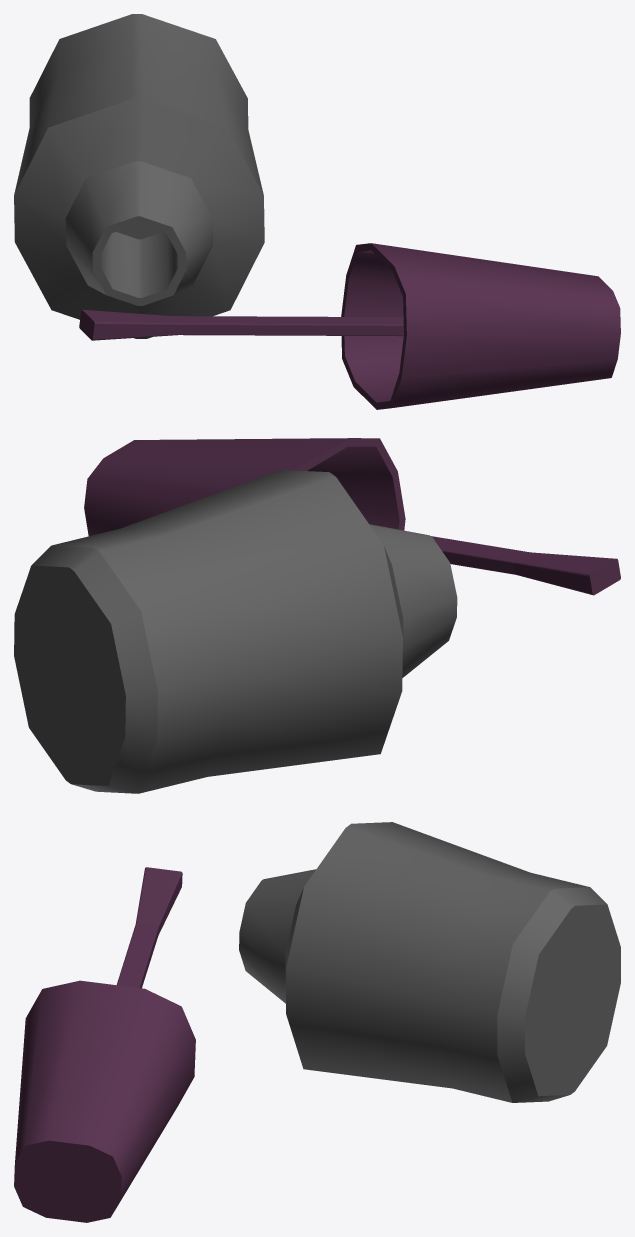
Rendered from VernisOngleOuvert.fbx.
The picture shows the model from 3 angles, top to bottom: view 1: azimuth 30°, elevation 25°; view 2: azimuth 150°, elevation 25°; view 3: azimuth 270°, elevation 25°; orthographic projection. The views are drawn at different scales.
Visible parts, largest first — view 1: VernisOngleOuvert; view 2: VernisOngleOuvert; view 3: VernisOngleOuvert.
Part boxes in pixels (box(x1,y1,x2,y2)): VernisOngleOuvert: box(14, 14, 620, 409); VernisOngleOuvert: box(14, 438, 620, 793); VernisOngleOuvert: box(14, 822, 620, 1222).
Size of the model in its own units: 8.21 by 4.02 by 9.09.
